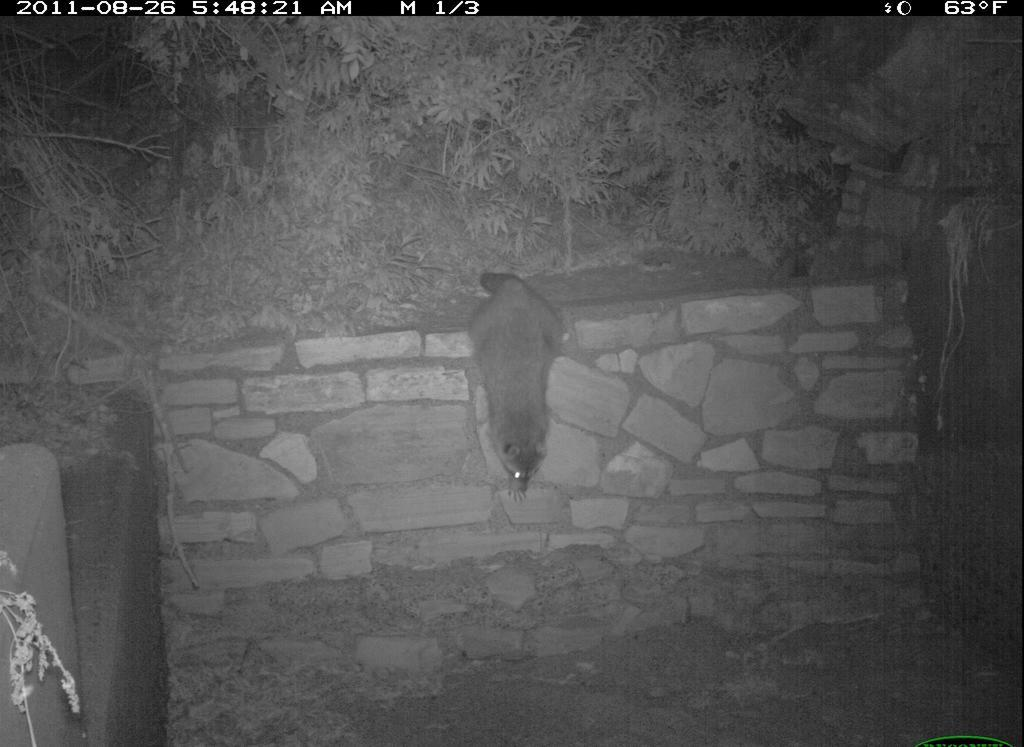raccoon: (464, 265, 580, 502)
